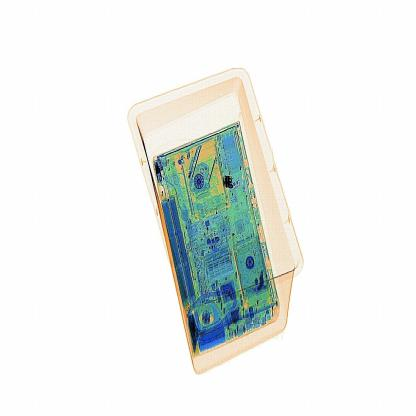scissors: (220, 175, 238, 194)
